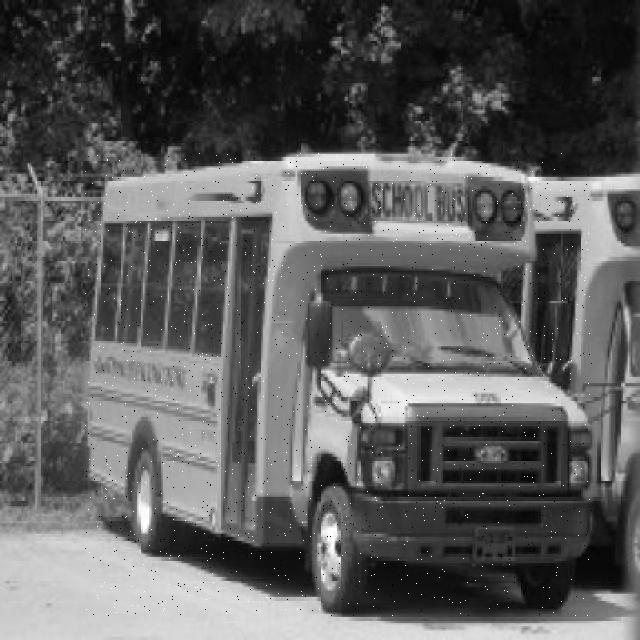Bus- Small: (85, 153, 592, 616)
